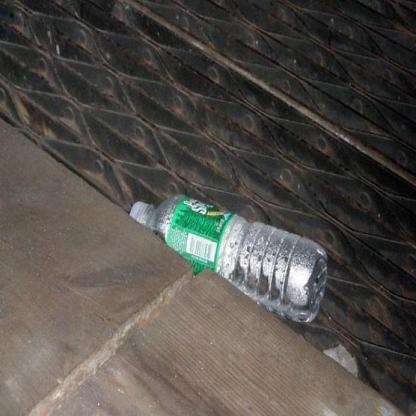Plastic Bottle: (131, 196, 328, 322)
